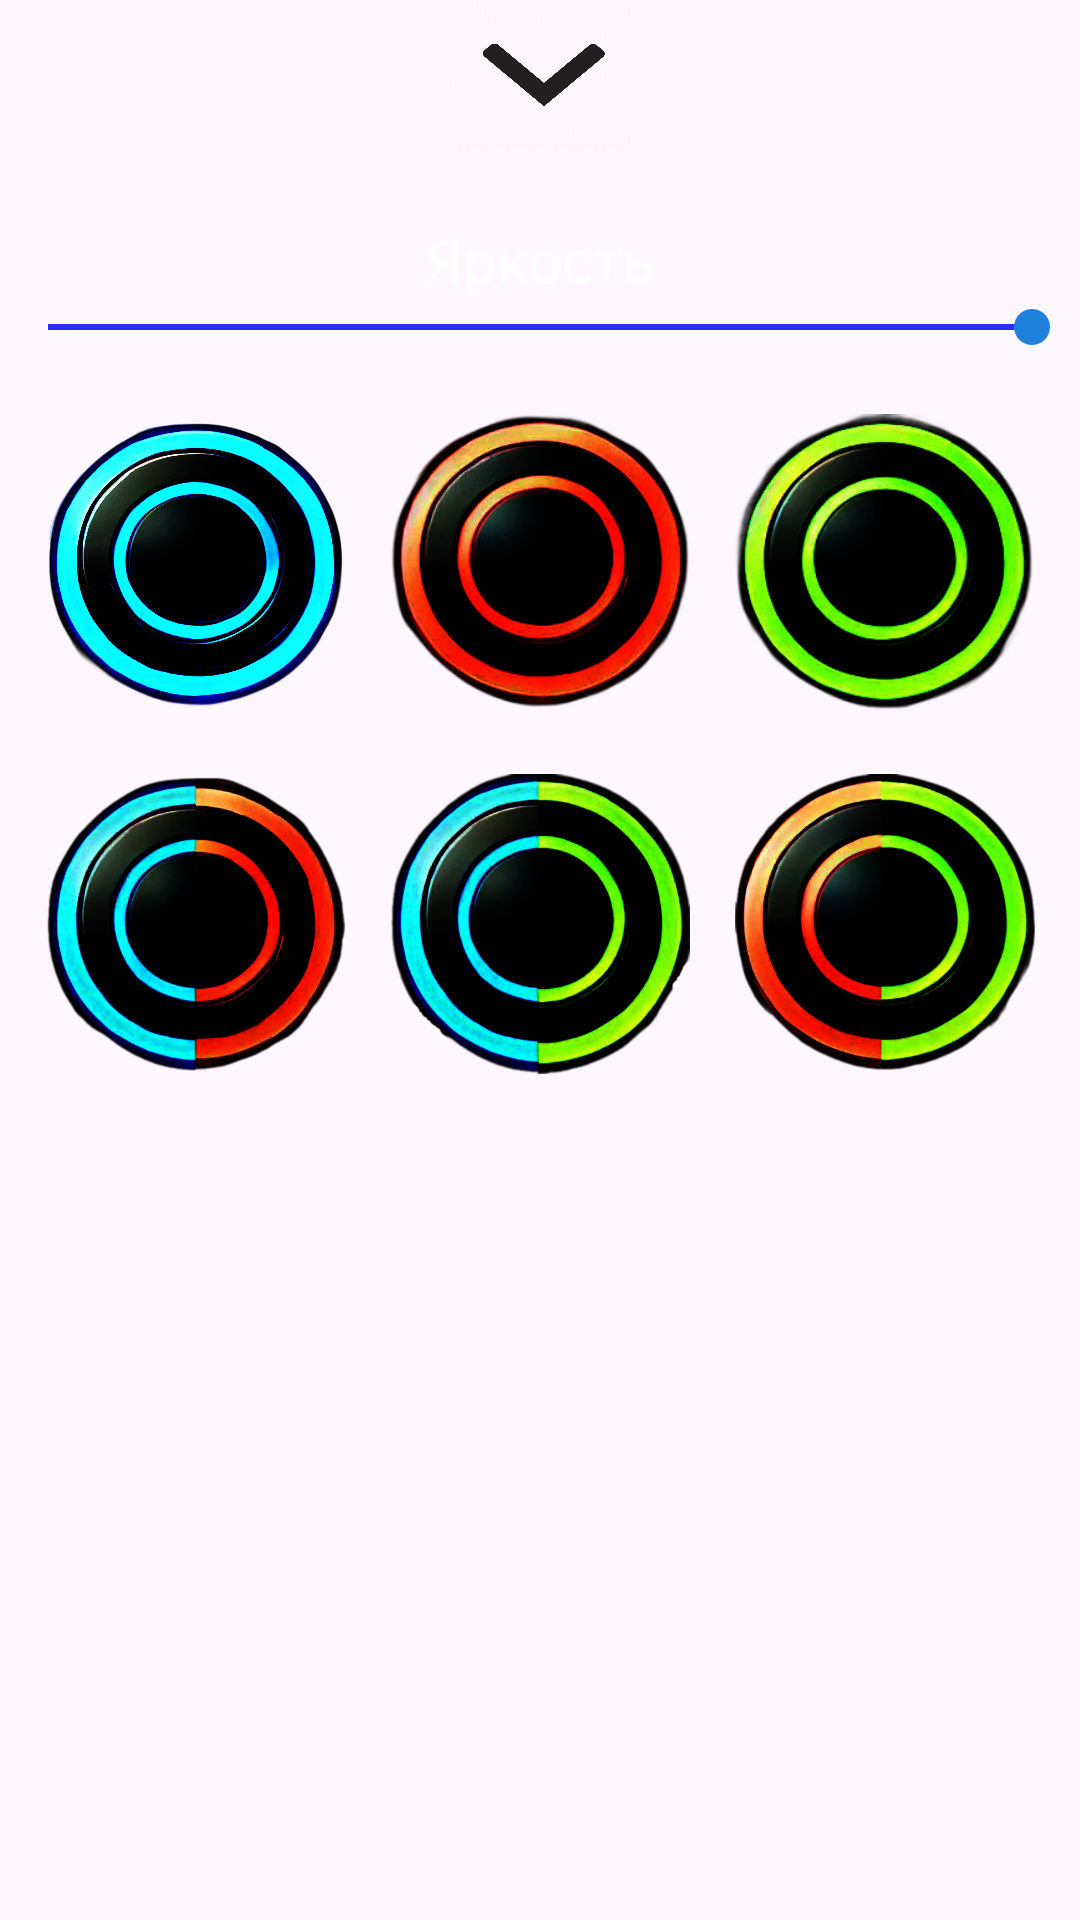

Where icons sit on this 1080 x 1920 app screen, as bbox=[x1, y1, x2, y2]:
Закрыть меню: bbox=[483, 44, 605, 106]
